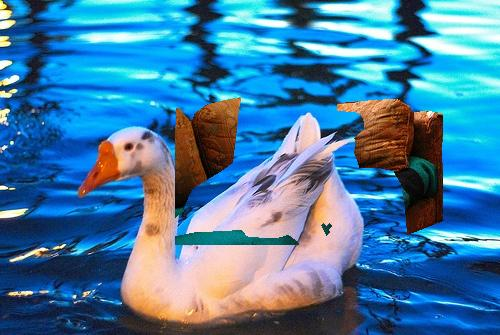tampered: (176, 98, 443, 245)
